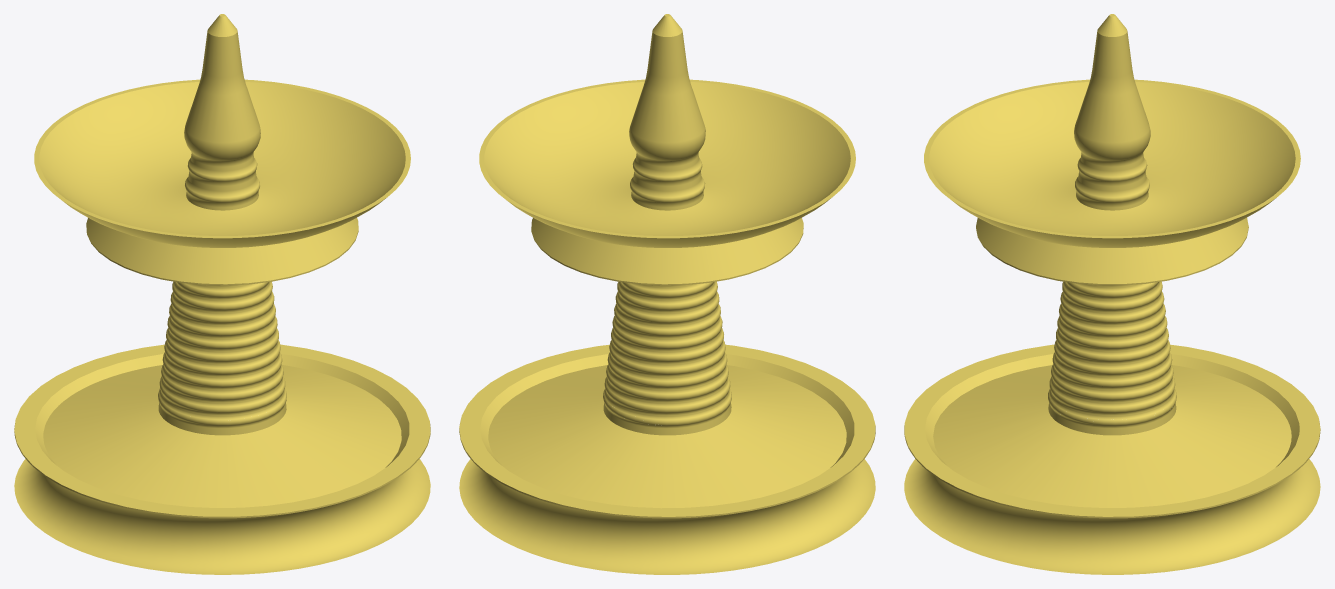
3 views of the same model, side by side, from view 1: azimuth 30°, elevation 25°; view 2: azimuth 150°, elevation 25°; view 3: azimuth 270°, elevation 25° (orthographic).
Parts seen in each view (by area): view 1: 50cm model oil lamp; view 2: 50cm model oil lamp; view 3: 50cm model oil lamp.
Part boxes in pixels (x1=…): 50cm model oil lamp: x1=14, y1=14, x2=430, y2=574; 50cm model oil lamp: x1=459, y1=14, x2=875, y2=574; 50cm model oil lamp: x1=904, y1=14, x2=1320, y2=574.
Bounding box in the file's own units: 0.3999 × 0.5 × 0.3998.
